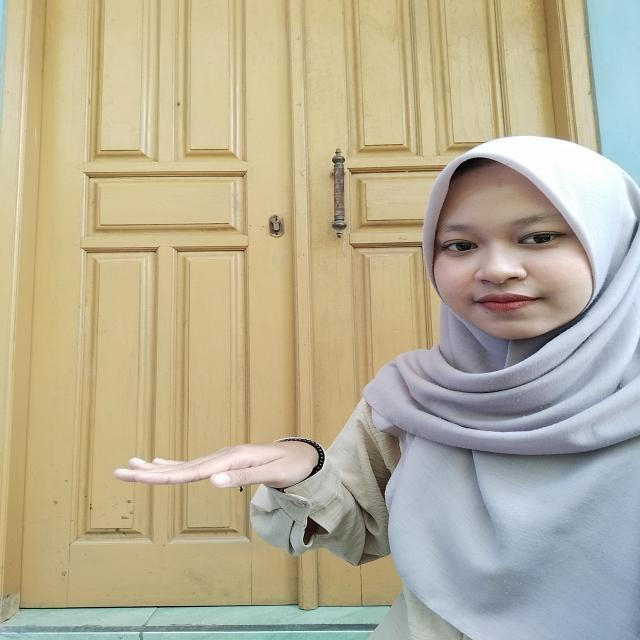adik: (98, 419, 336, 526)
